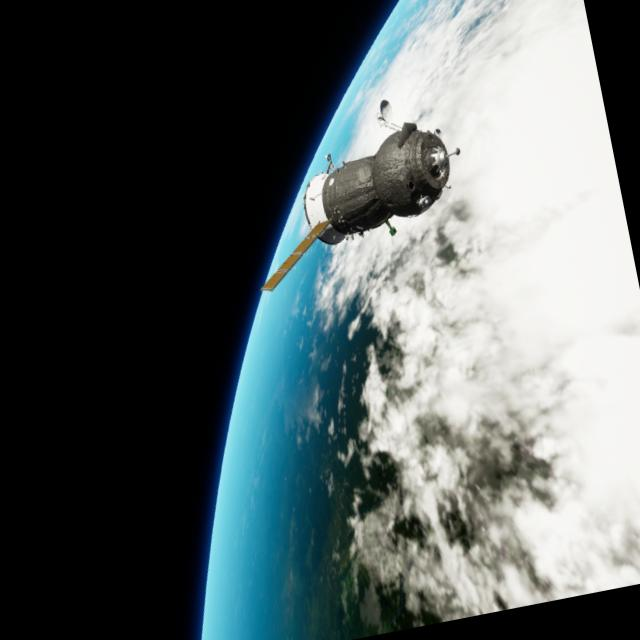Satellites revolving around earth: (75, 0, 640, 640), (228, 85, 482, 296)
